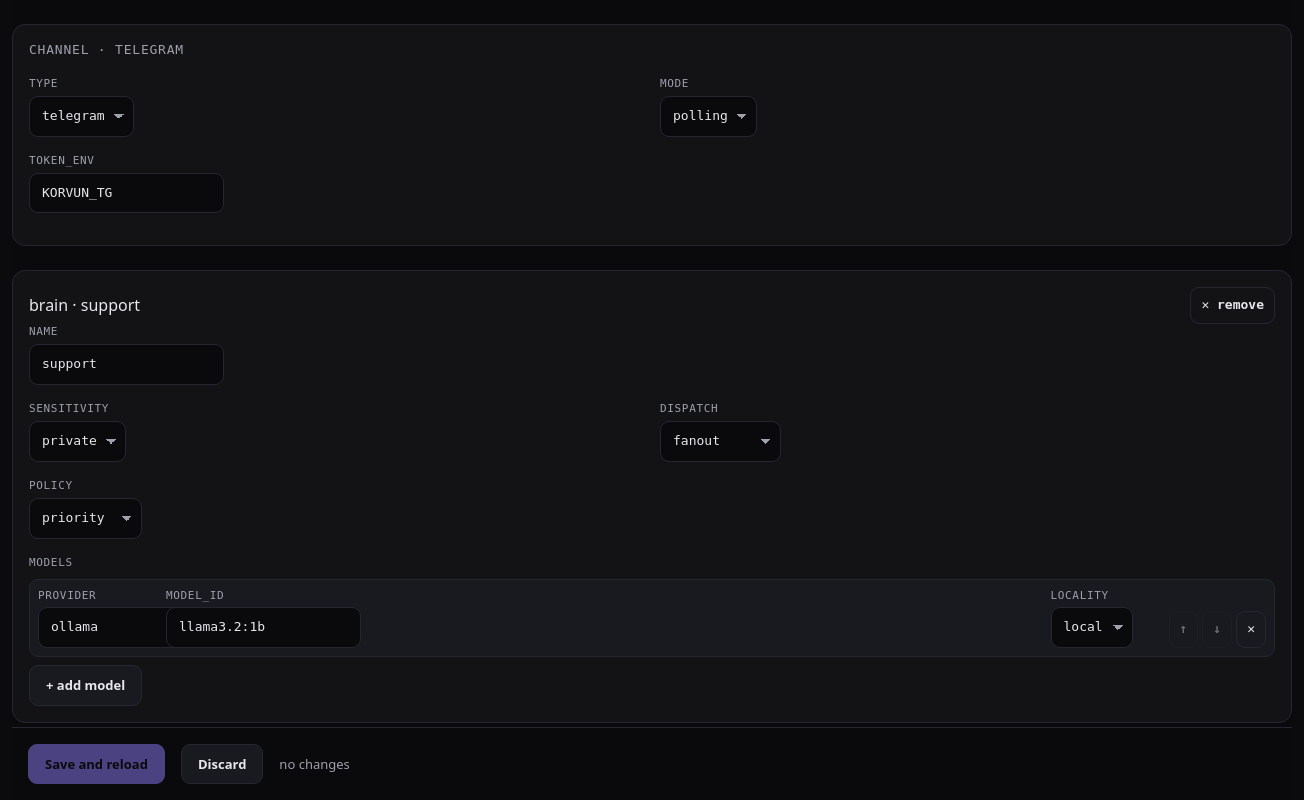
Scenario: ConfigEditor — edit → build full config → POST (2b.2a) › Save is gated on dirty and POSTs the FULL edited config
expect the button "Save and reload" is disabled: met, box [28,743,165,784]
Replace the text in the field labelled "name" with "support-v2" at (126, 365), box [29,344,224,385]
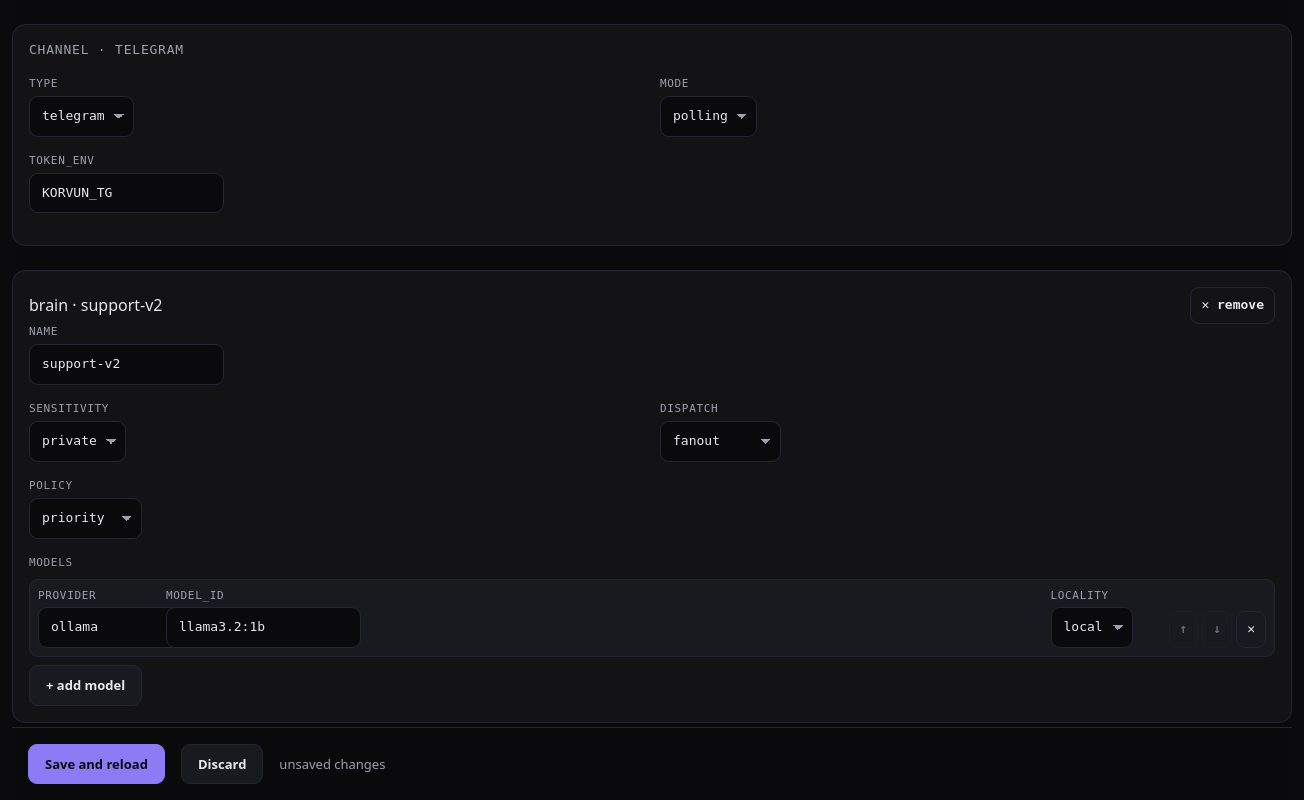
expect the button "Save and reload" is enabled: met
Click the button "Save and reload" at (96, 764), box [28,743,165,784]
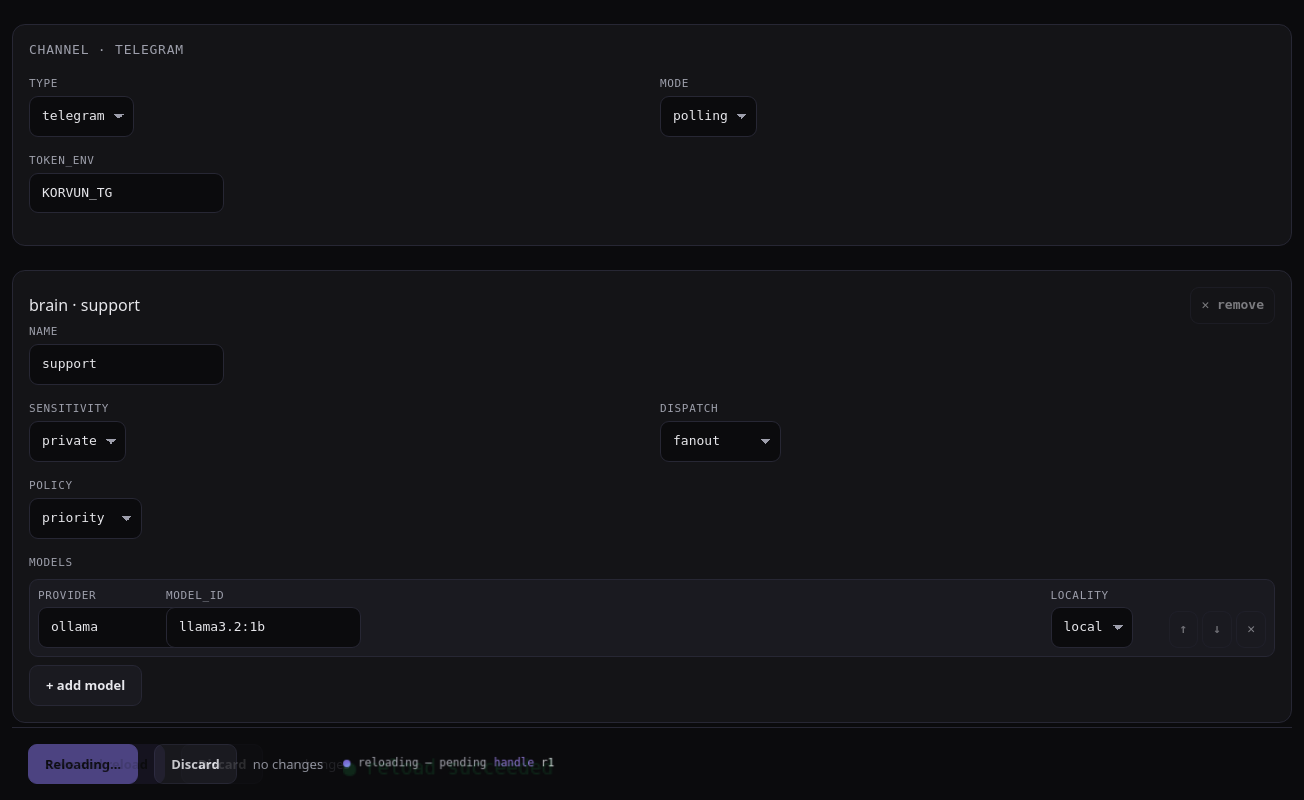
expect the message "reload succeeded" is shown: met, box [366,755,495,772]
